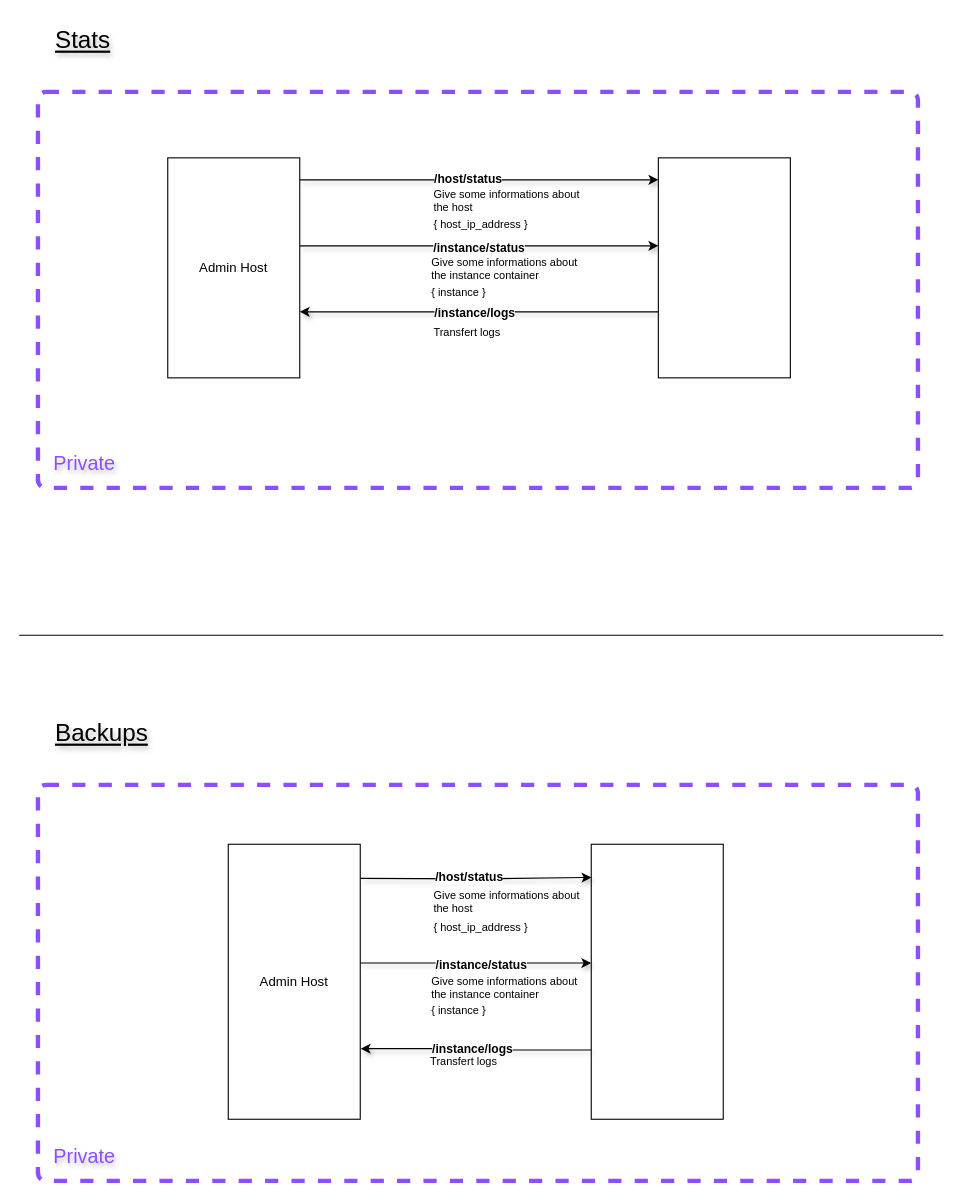
This 964x1201 diagram has some shape labels left out. Each missing label, with the centre of its shape:
"Backups Host" belongs at point 656,981.
"Stats Host" belongs at point 723,267.
